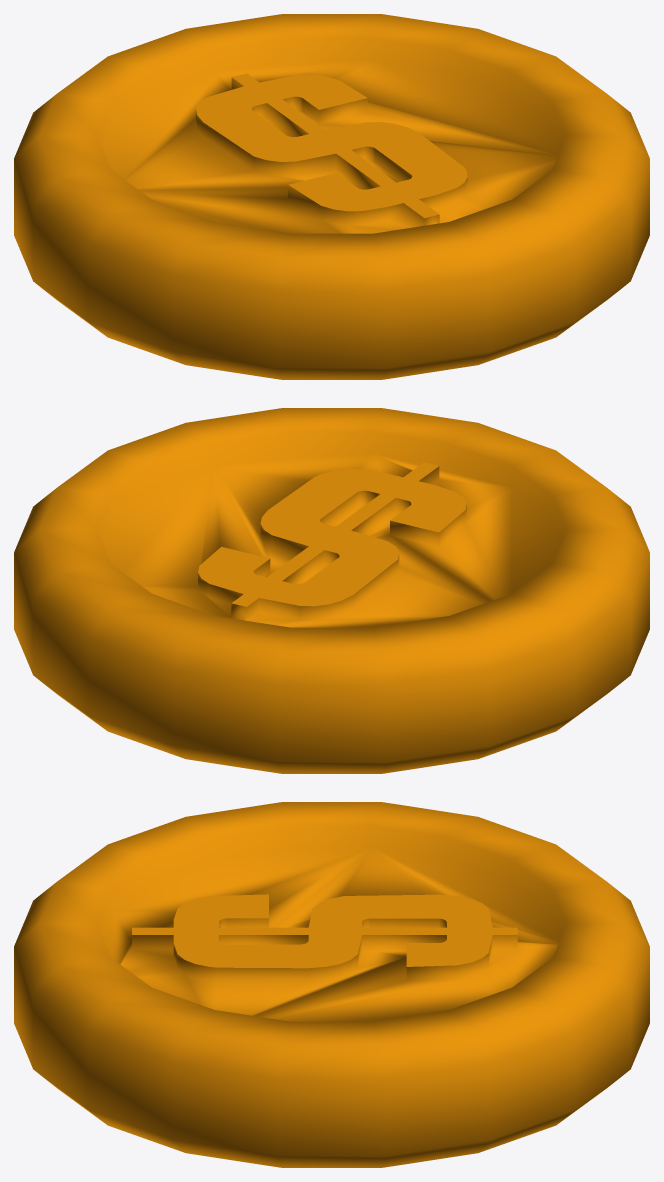
Rendered from coin_new.glb.
3 renders of one model, top to bottom at view 1: azimuth 30°, elevation 25°; view 2: azimuth 150°, elevation 25°; view 3: azimuth 270°, elevation 25°, orthographic.
Parts seen in each view (by area): view 1: Coin_New; view 2: Coin_New; view 3: Coin_New.
Part boxes in pixels (x1=…): Coin_New: x1=14, y1=14, x2=649, y2=379; Coin_New: x1=14, y1=408, x2=649, y2=773; Coin_New: x1=14, y1=802, x2=649, y2=1167.
Bounding box in the file's own units: 1.97 × 0.4236 × 2.
